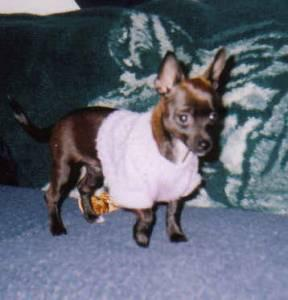dog-chihuahua: (153, 45, 224, 154)
